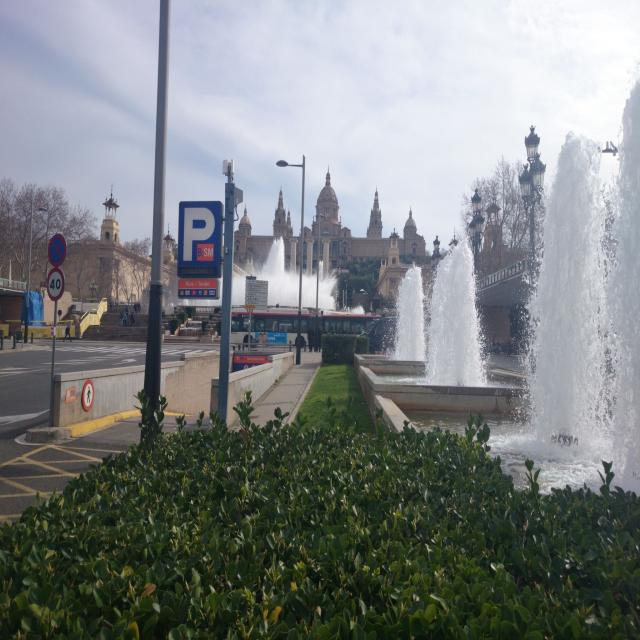car: (176, 320, 210, 336)
